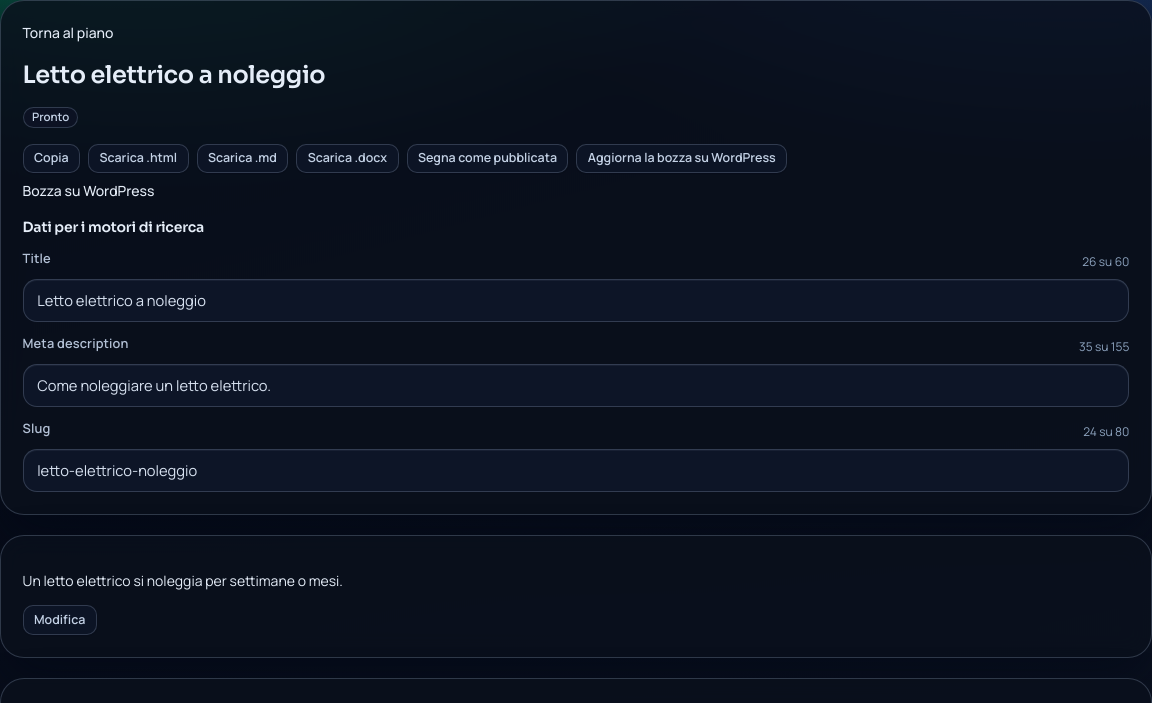
Test: «Invia a WordPress» › senza collegamento il pulsante non c'è; un errore di WordPress mostra il testo del catalogo
Click the button "Aggiorna la bozza su WordPress": (682, 158) [576,144,787,173]
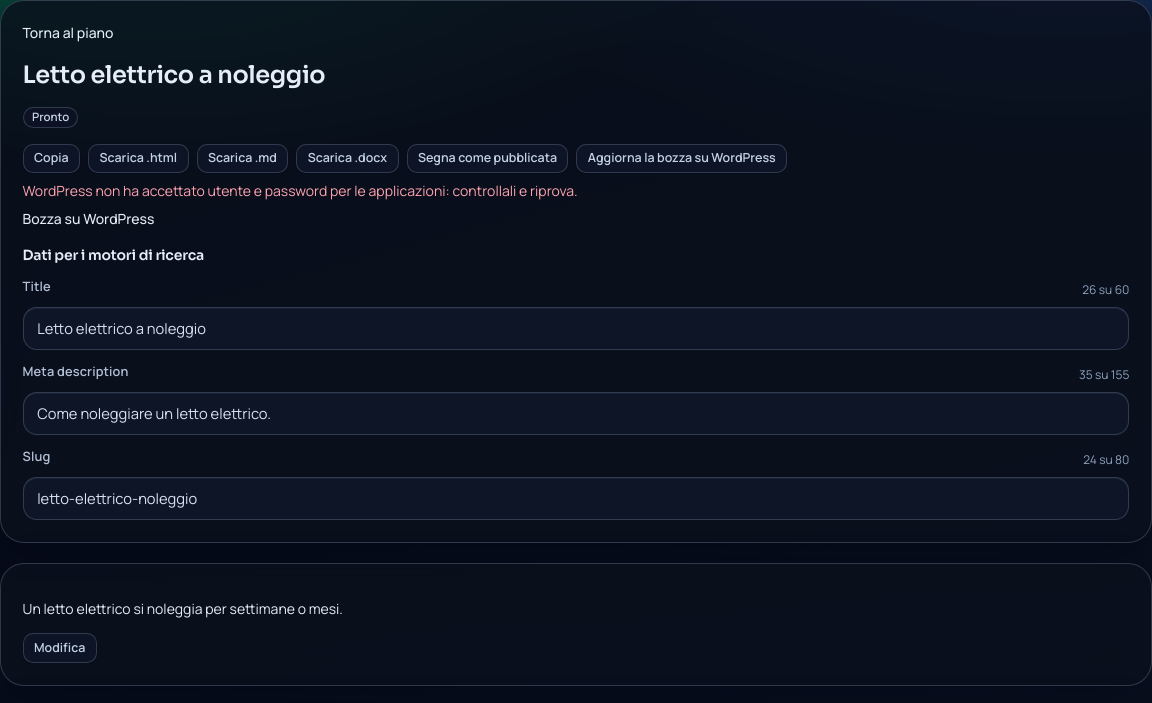
Check: the link "Bozza su WordPress" is shown, box [23,209,154,228]
Check: the 2nd message shows "WordPress non ha accettato utente e password per le applicazioni: controllali e riprova.", box [23,181,578,200]
